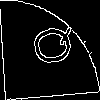Q: (25, 25, 75, 66)
